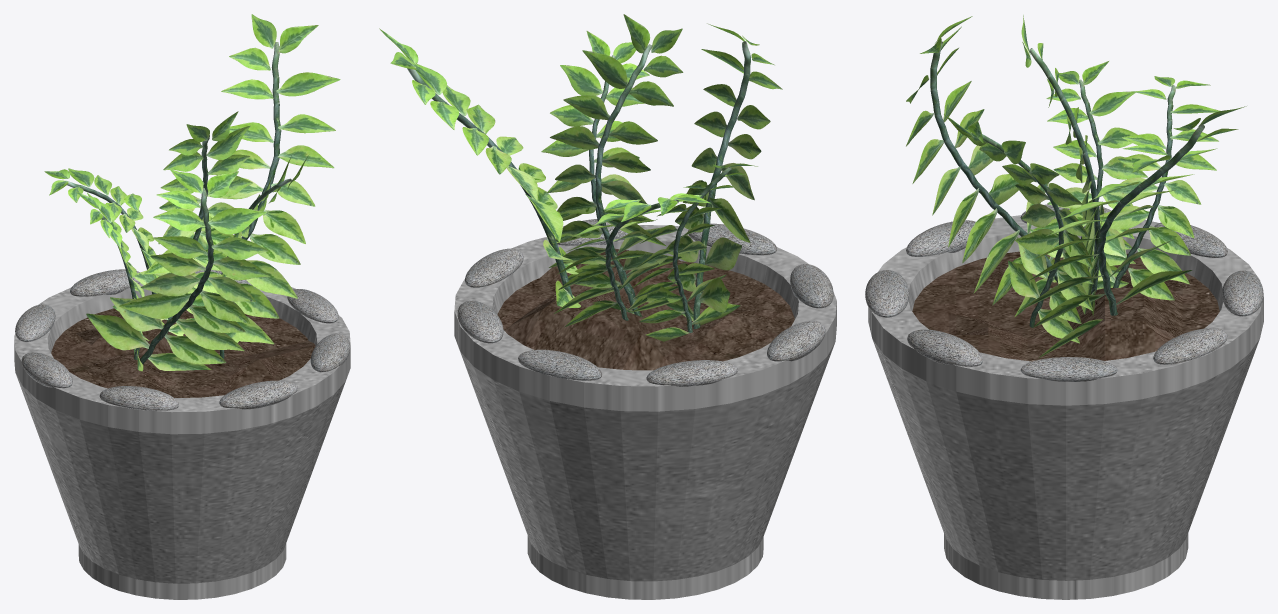
The picture shows the model from 3 angles, left to right: view 1: azimuth 30°, elevation 25°; view 2: azimuth 150°, elevation 25°; view 3: azimuth 270°, elevation 25°; orthographic projection. The views are drawn at different scales.
Parts seen in each view (by area): view 1: Cylinder, NurbsPath.059, Plane, Sphere.001, Sphere.007, Sphere, Sphere.002, Sphere.006, Sphere.004, Sphere.003; view 2: Cylinder, NurbsPath.059, Plane, Sphere.004, Sphere.002, Sphere, Sphere.003, Sphere.007, Sphere.005, Sphere.001; view 3: Cylinder, NurbsPath.059, Plane, Sphere.003, Sphere.006, Sphere.005, Sphere.001, Sphere.007, Sphere.002, Sphere.004.
Boxes of the visible parts, left/top/right/bottom form: Cylinder: left=14, top=283, right=350, bottom=599; NurbsPath.059: left=44, top=14, right=340, bottom=371; Plane: left=51, top=308, right=315, bottom=397; Sphere.001: left=219, top=380, right=297, bottom=409; Sphere.007: left=99, top=386, right=178, bottom=410; Sphere: left=21, top=352, right=72, bottom=388; Sphere.002: left=70, top=269, right=140, bottom=296; Sphere.006: left=310, top=333, right=350, bottom=371; Sphere.004: left=15, top=304, right=55, bottom=341; Sphere.003: left=287, top=289, right=338, bottom=323; Cylinder: left=454, top=225, right=836, bottom=599; NurbsPath.059: left=379, top=14, right=782, bottom=341; Plane: left=497, top=248, right=794, bottom=370; Sphere.004: left=646, top=360, right=737, bottom=386; Sphere.002: left=518, top=349, right=601, bottom=380; Sphere: left=767, top=321, right=825, bottom=361; Sphere.003: left=465, top=248, right=523, bottom=287; Sphere.007: left=790, top=264, right=833, bottom=308; Sphere.005: left=457, top=300, right=503, bottom=343; Sphere.001: left=688, top=223, right=776, bottom=255; Cylinder: left=868, top=215, right=1263, bottom=599; NurbsPath.059: left=906, top=15, right=1246, bottom=357; Plane: left=912, top=251, right=1219, bottom=361; Sphere.003: left=1020, top=357, right=1117, bottom=381; Sphere.006: left=907, top=329, right=982, bottom=366; Sphere.005: left=1153, top=328, right=1227, bottom=364; Sphere.001: left=865, top=270, right=909, bottom=317; Sphere.007: left=906, top=220, right=975, bottom=256; Sphere.002: left=1222, top=270, right=1263, bottom=316; Sphere.004: left=1154, top=222, right=1227, bottom=257.
Size of the model in its own units: 52.33 by 67.08 by 45.96.
24 materials, 24 textured.
